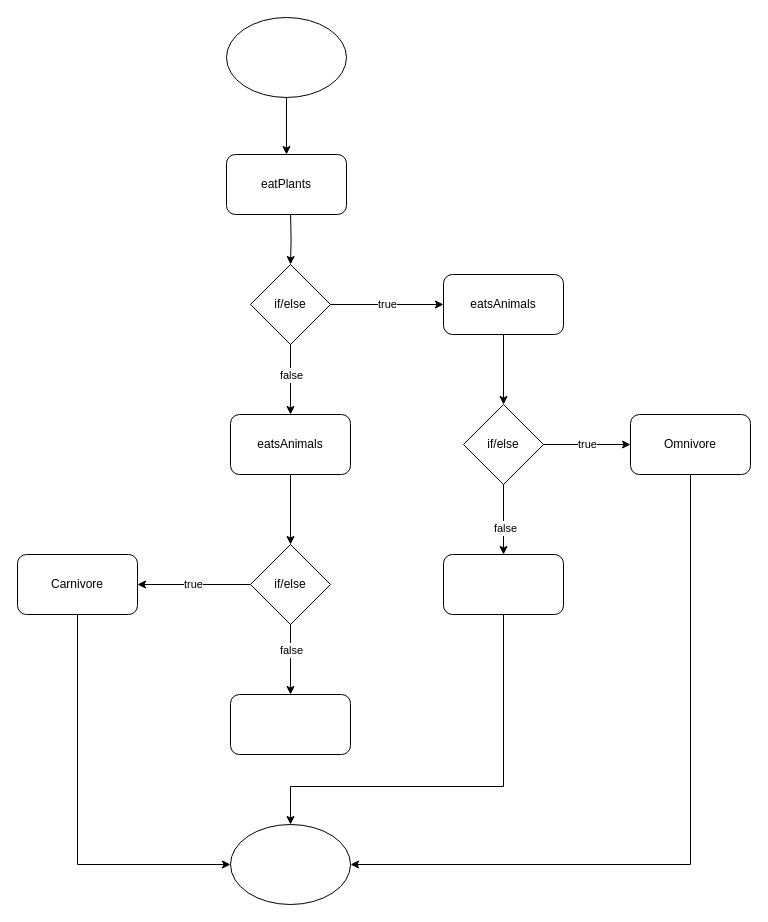
Some shapes in this 768 by 922 pixel diagram are drawn without their labels. Here are the shapes that lost their labels. From the top down, the box of each, then its label:
(226, 16, 346, 98): START
(442, 554, 564, 614): Herbivore
(230, 694, 350, 754): Undefined
(230, 824, 350, 904): END
